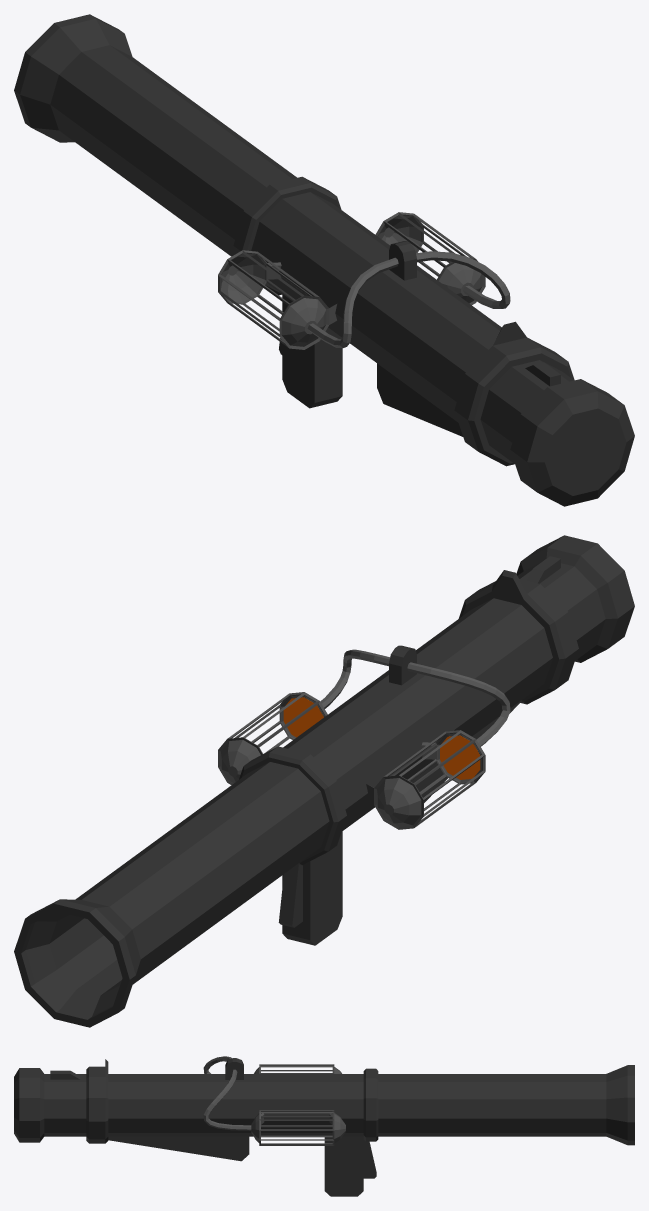
File: lily bazooka.fbx
The picture shows the model from 3 angles, top to bottom: view 1: azimuth 30°, elevation 25°; view 2: azimuth 150°, elevation 25°; view 3: azimuth 270°, elevation 25°; orthographic projection. The views are drawn at different scales.
Parts seen in each view (by area): view 1: Bazooka; view 2: Bazooka; view 3: Bazooka.
Boxes of the visible parts, x1=… form: Bazooka: x1=14, y1=14, x2=634, y2=506; Bazooka: x1=14, y1=535, x2=634, y2=1027; Bazooka: x1=14, y1=1056, x2=634, y2=1196.
Size of the model in its own units: 50.33 by 51.3 by 218.
